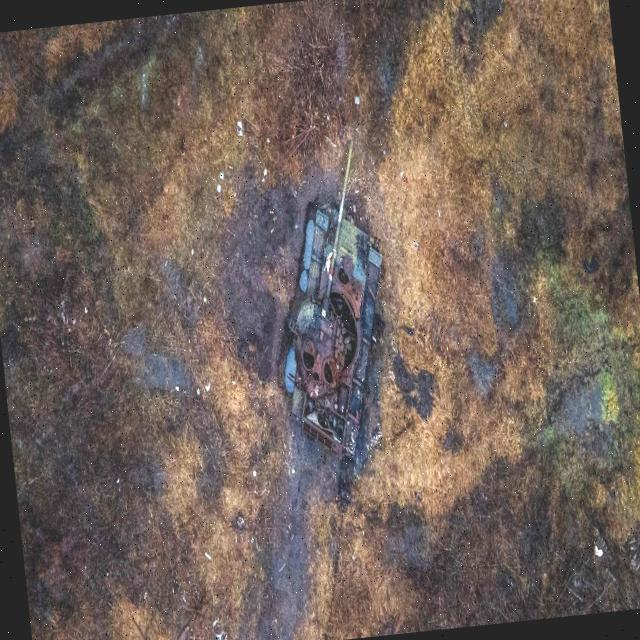Destroyed: (262, 137, 423, 469)
